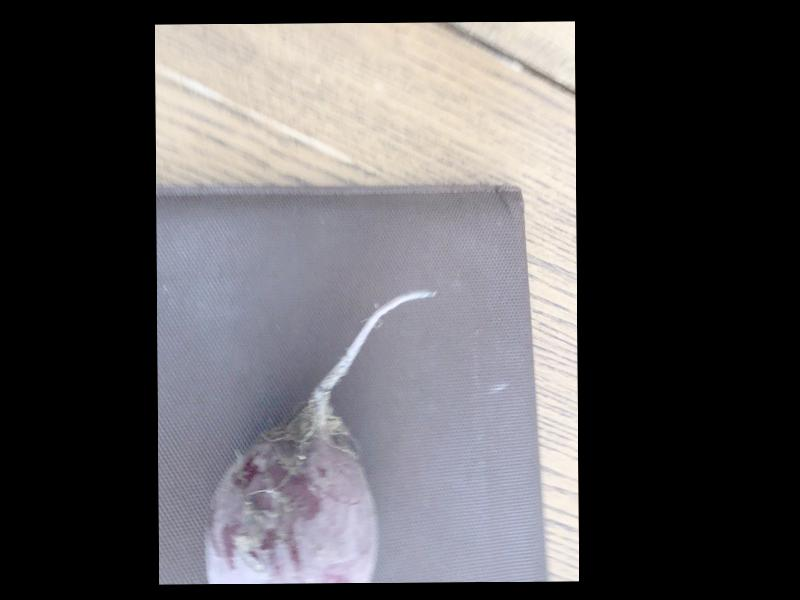Beet: (203, 289, 436, 582)
